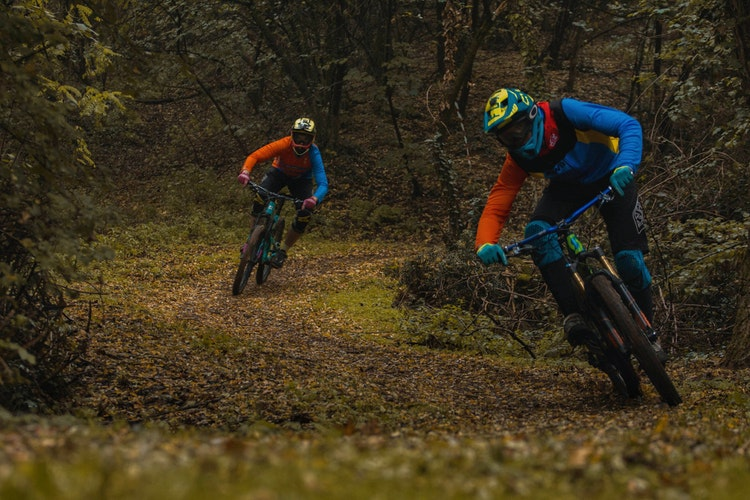helmet: (483, 84, 546, 158), (287, 116, 323, 157)
